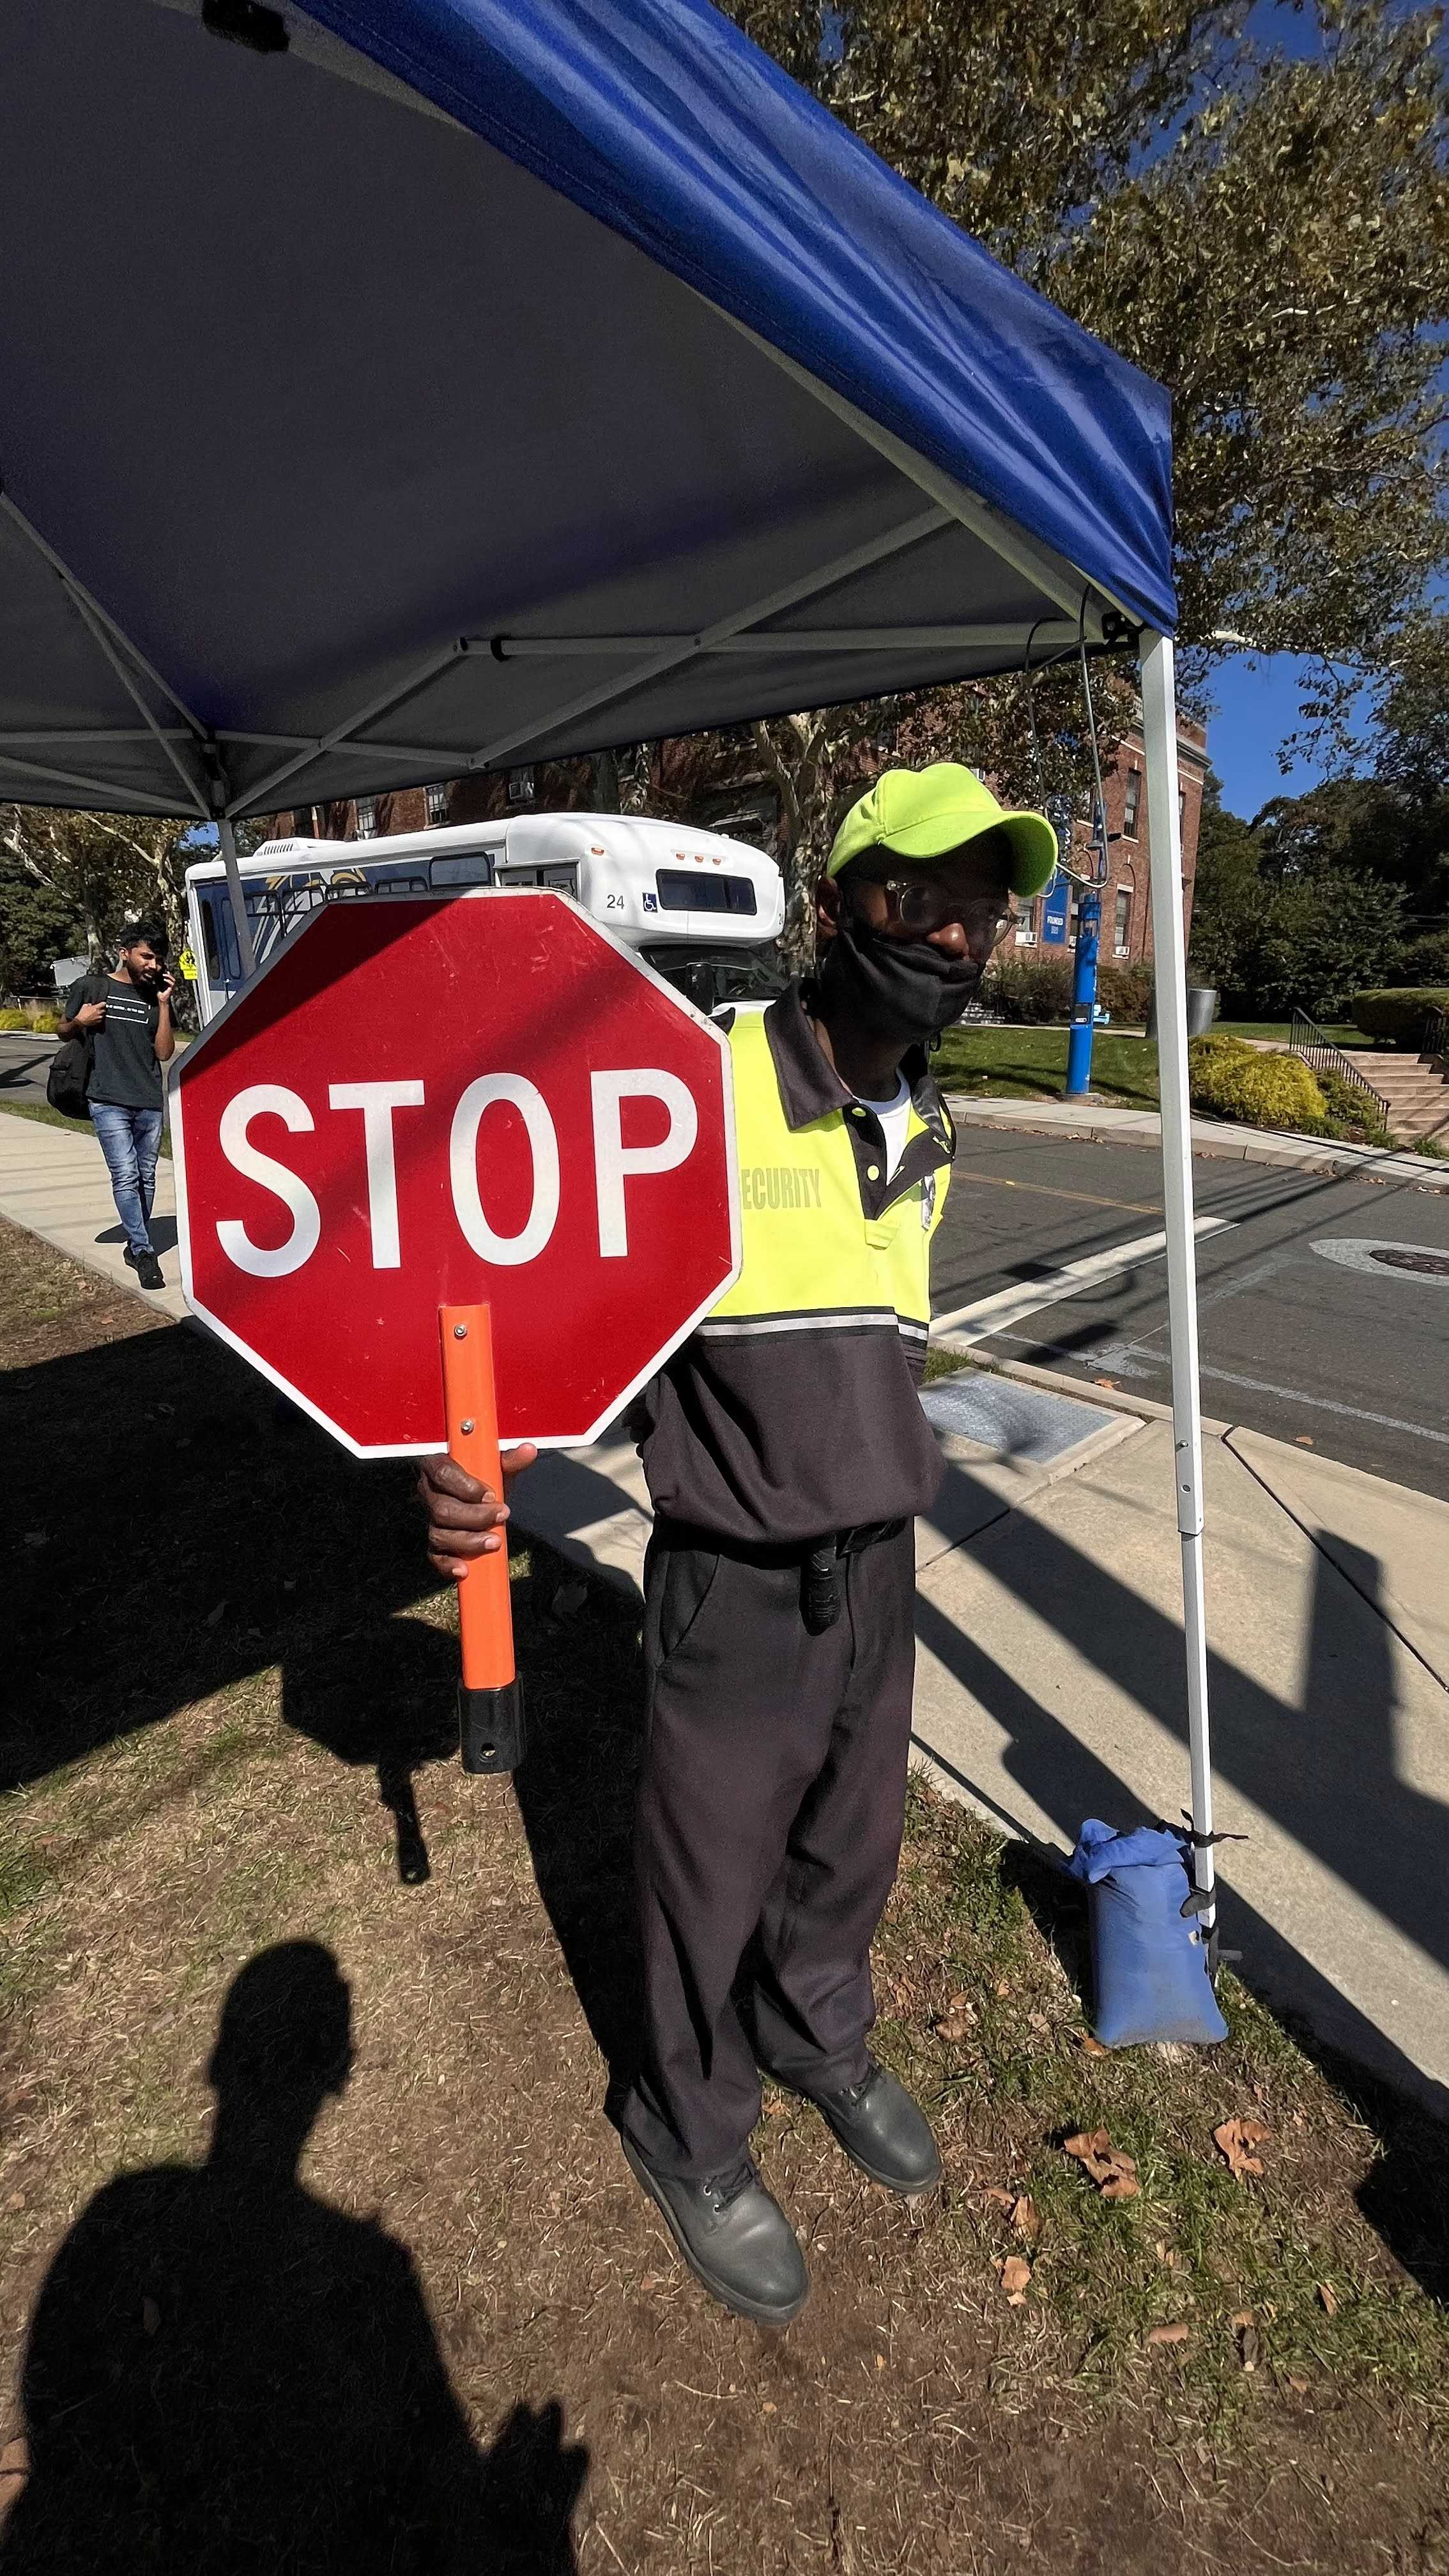Security: (163, 708, 1182, 1937)
